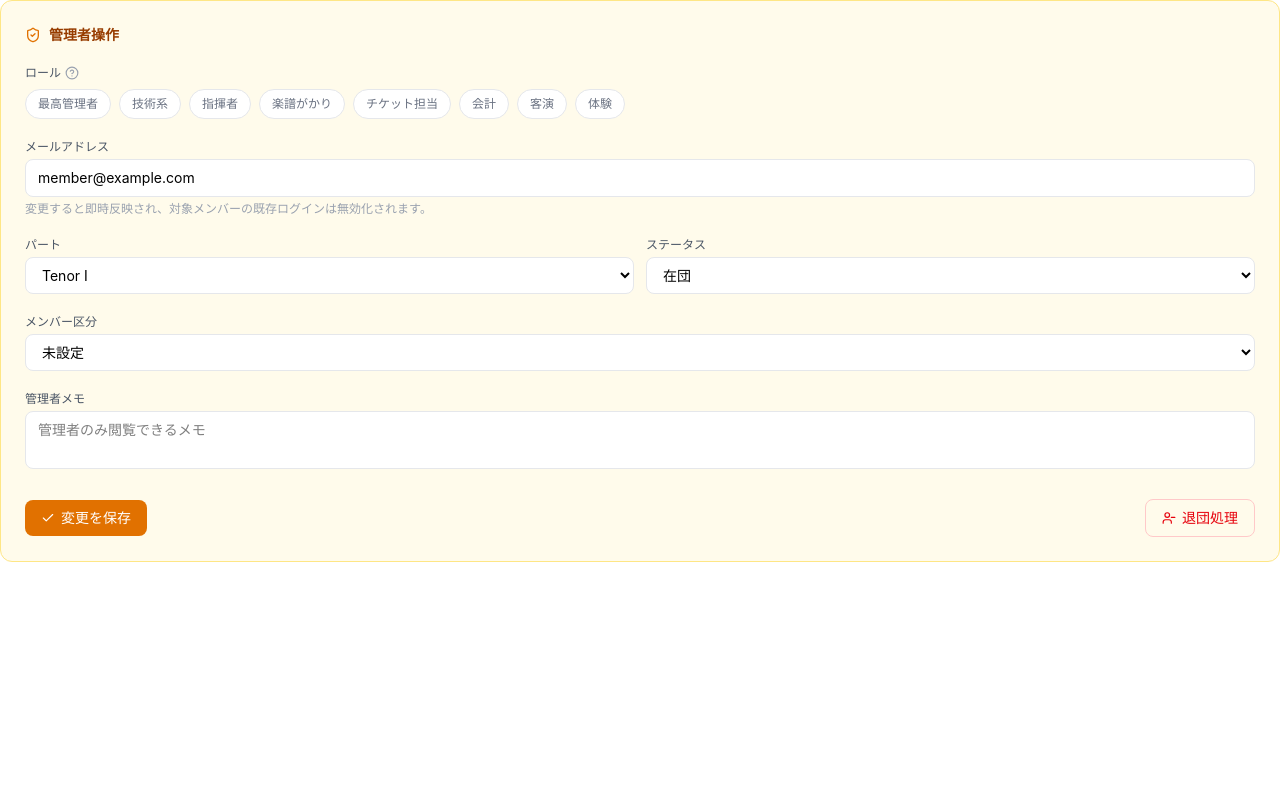
Scenario: AdminPanel（操作） › 保存が失敗した場合、エラーメッセージを表示する
Click the button "変更を保存" at (86, 518), box [25,500,147,536]
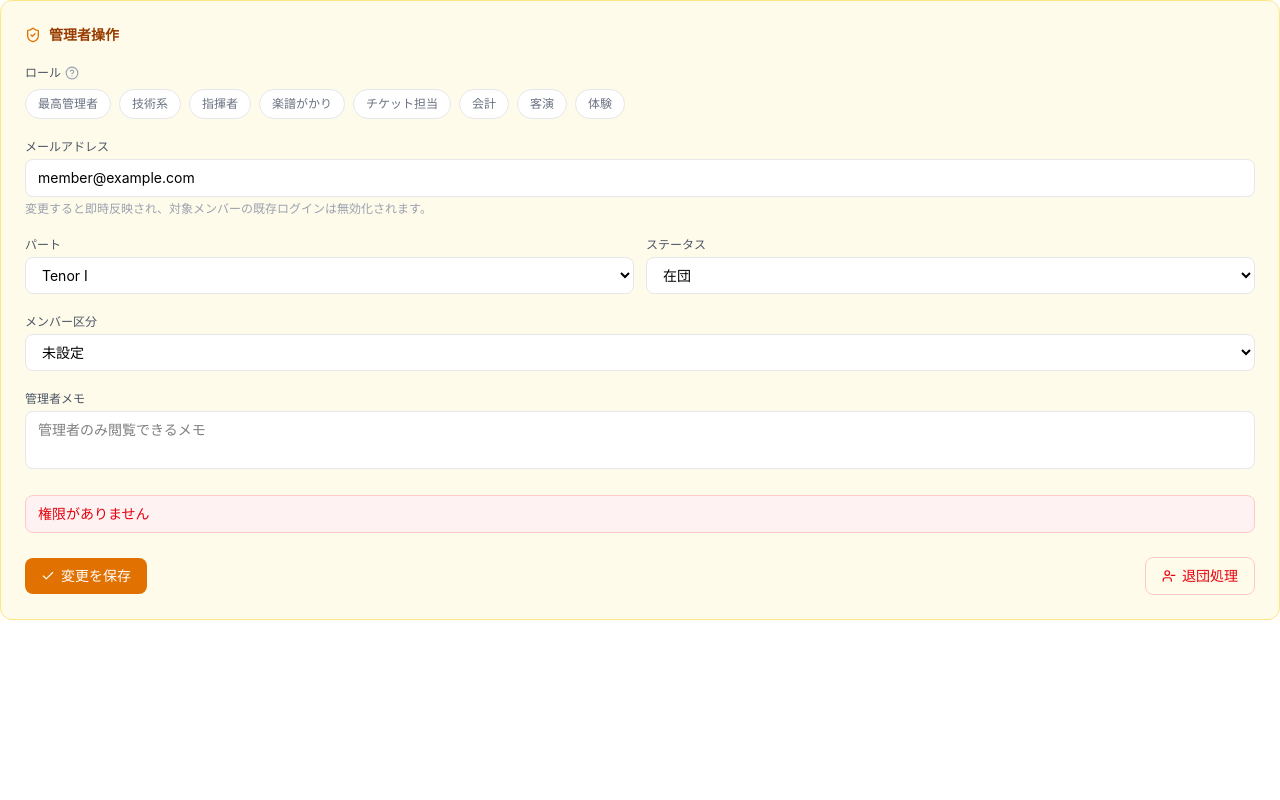
Expected: the button "変更を保存" is enabled, [25,558,147,594]
Result: the message reads "権限がありません" at [38,505,150,522]
